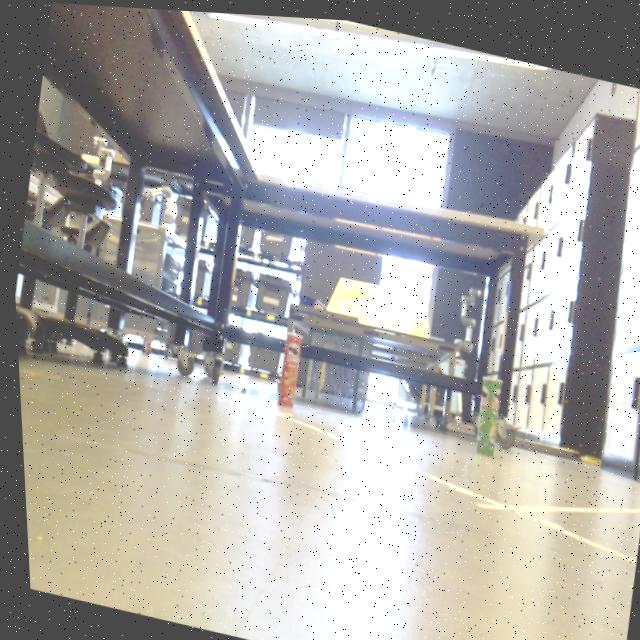greenpringles: (456, 358, 513, 455)
redpringles: (254, 310, 318, 429)
